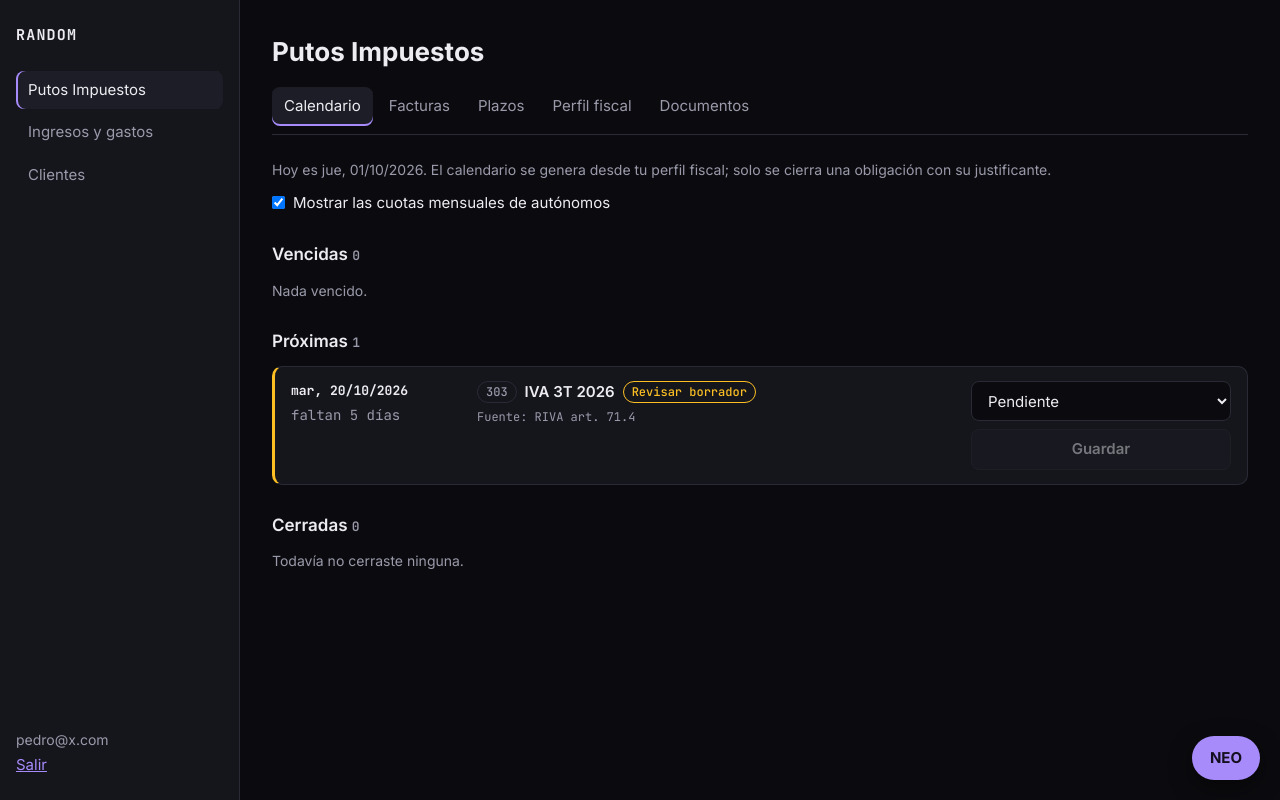
Test: calendario › si el guardado falla muestra el error y no cambia el estado
Select "Preparado" in the dropdown named "Estado de IVA 3T 2026" at (1101, 401), box left=971, top=381, right=1231, bottom=421
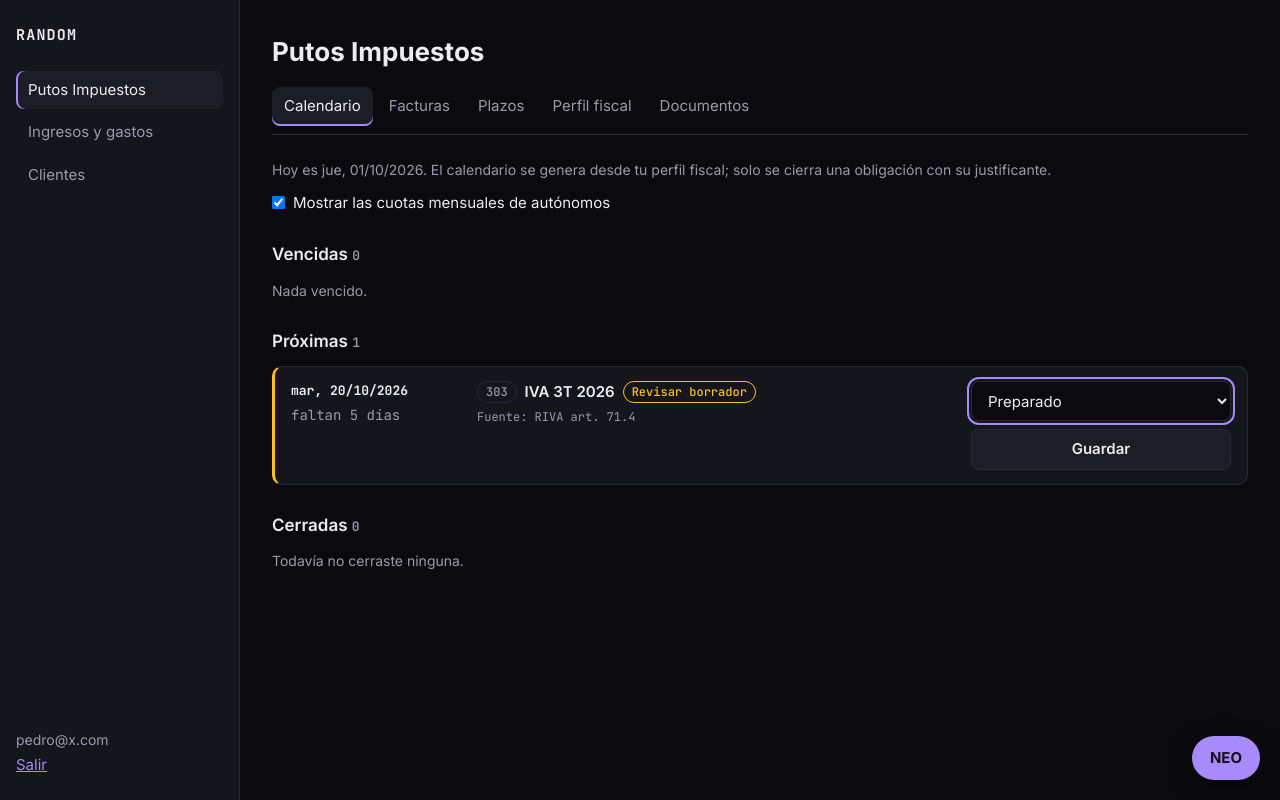
Click the button "Guardar" at (1101, 449), box left=971, top=429, right=1231, bottom=470
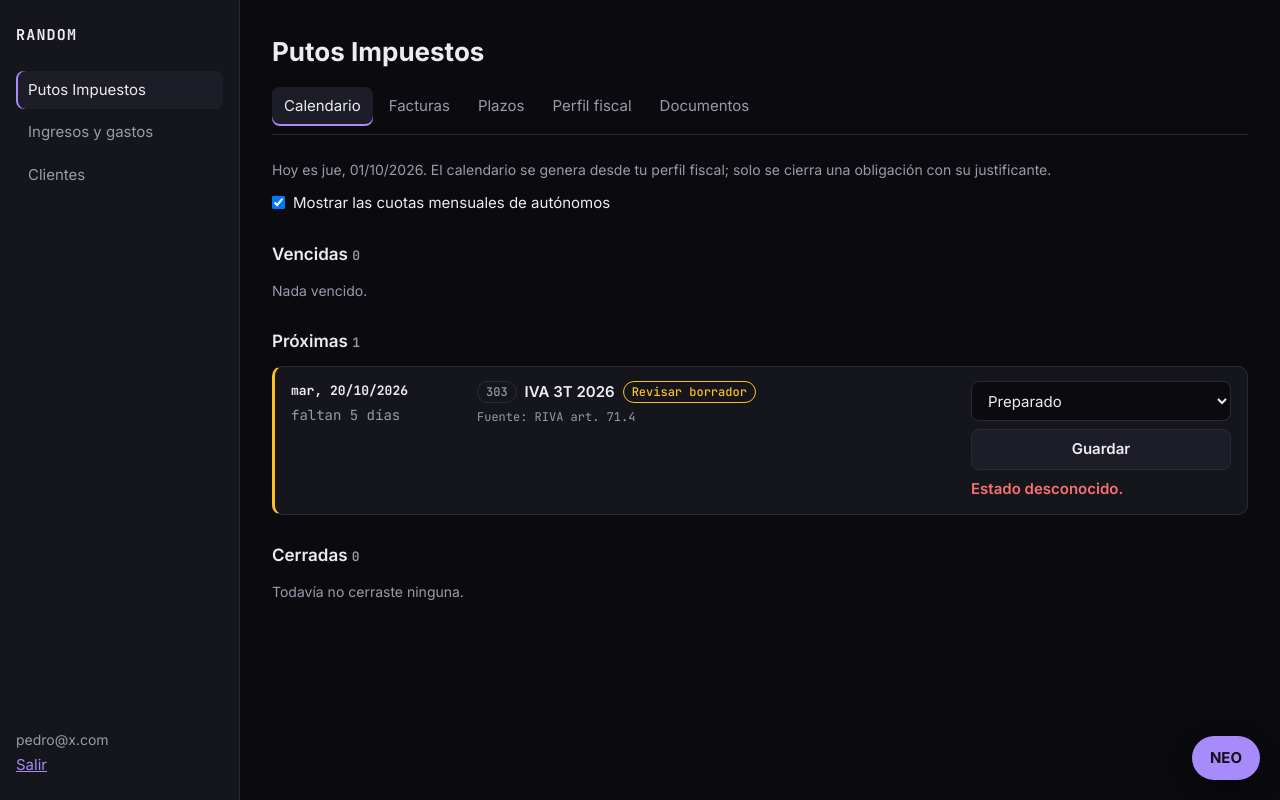
Expected: the text "IVA 3T 2026" is shown, left=525, top=382, right=615, bottom=401
Expected: the message reads "Estado desconocido.", left=971, top=478, right=1123, bottom=498
